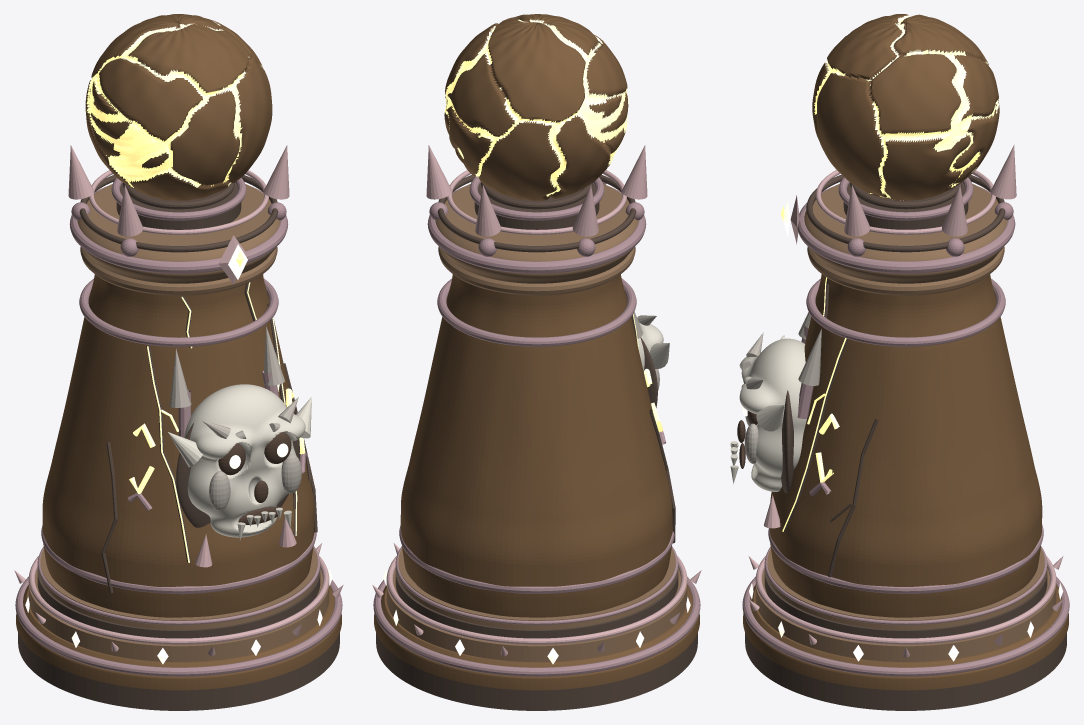
Rendered from pion_Necromantique_orange.fbx.
3 views of the same model, side by side, from view 1: azimuth 30°, elevation 25°; view 2: azimuth 150°, elevation 25°; view 3: azimuth 270°, elevation 25° (orthographic).
Parts seen in each view (by area): view 1: Corps_Pierre_Sculptee, Orbe_Coque_Sombre_Fissuree, Crane_Sculpte_Os, Socle_02_Chanfrein, Socle_01_Obsidienne, Col_Haut_01, Socle_03_Corniche, Socle_06_FiletBronze, Orbe_Fissures_Lumineuses, Socle_05_Etage, Socle_04_Gorge, Orbe_Coeur_Magique_VisibleParFissures (+24 smaller); view 2: Corps_Pierre_Sculptee, Orbe_Coque_Sombre_Fissuree, Socle_02_Chanfrein, Socle_01_Obsidienne, Col_Haut_01, Socle_03_Corniche, Socle_06_FiletBronze, Col_BordBronze, Socle_05_Etage, Socle_04_Gorge, Orbe_Fissures_Lumineuses, Socle_08_LiseretBas (+15 smaller); view 3: Corps_Pierre_Sculptee, Orbe_Coque_Sombre_Fissuree, Socle_02_Chanfrein, Socle_01_Obsidienne, Col_Haut_01, Crane_Sculpte_Os, Socle_03_Corniche, Socle_06_FiletBronze, Col_BordBronze, Socle_05_Etage, Socle_04_Gorge, Socle_08_LiseretBas (+19 smaller).
Part boxes in pixels (x1,y1,x2,y2): Corps_Pierre_Sculptee: (42, 274, 314, 617); Orbe_Coque_Sombre_Fissuree: (85, 14, 272, 200); Crane_Sculpte_Os: (184, 384, 305, 537); Socle_02_Chanfrein: (16, 585, 341, 690); Socle_01_Obsidienne: (18, 633, 339, 710); Col_Haut_01: (77, 184, 280, 283); Socle_03_Corniche: (28, 568, 329, 661); Socle_06_FiletBronze: (15, 577, 342, 676); Orbe_Fissures_Lumineuses: (86, 21, 262, 187); Socle_05_Etage: (40, 547, 317, 629); Socle_04_Gorge: (37, 568, 320, 638); Orbe_Coeur_Magique_VisibleParFissures: (89, 23, 249, 186); Corps_Pierre_Sculptee: (400, 274, 672, 617); Orbe_Coque_Sombre_Fissuree: (444, 14, 628, 200); Socle_02_Chanfrein: (374, 585, 699, 690); Socle_01_Obsidienne: (376, 633, 697, 710); Col_Haut_01: (435, 184, 638, 283); Socle_03_Corniche: (386, 569, 687, 661); Socle_06_FiletBronze: (373, 577, 700, 676); Col_BordBronze: (427, 187, 646, 273); Socle_05_Etage: (398, 548, 675, 629); Socle_04_Gorge: (395, 568, 678, 638); Orbe_Fissures_Lumineuses: (444, 19, 628, 188); Socle_08_LiseretBas: (386, 556, 687, 644); Corps_Pierre_Sculptee: (769, 274, 1042, 617); Orbe_Coque_Sombre_Fissuree: (812, 14, 999, 200); Socle_02_Chanfrein: (743, 585, 1068, 690); Socle_01_Obsidienne: (745, 633, 1066, 710); Col_Haut_01: (804, 184, 1007, 283); Crane_Sculpte_Os: (739, 338, 806, 491); Socle_03_Corniche: (755, 568, 1056, 661); Socle_06_FiletBronze: (742, 576, 1069, 676); Col_BordBronze: (797, 186, 1015, 273); Socle_05_Etage: (767, 548, 1044, 629); Socle_04_Gorge: (764, 568, 1047, 638); Socle_08_LiseretBas: (755, 555, 1056, 644).
Size of the model in its own units: 62.8 by 130 by 64.3.
